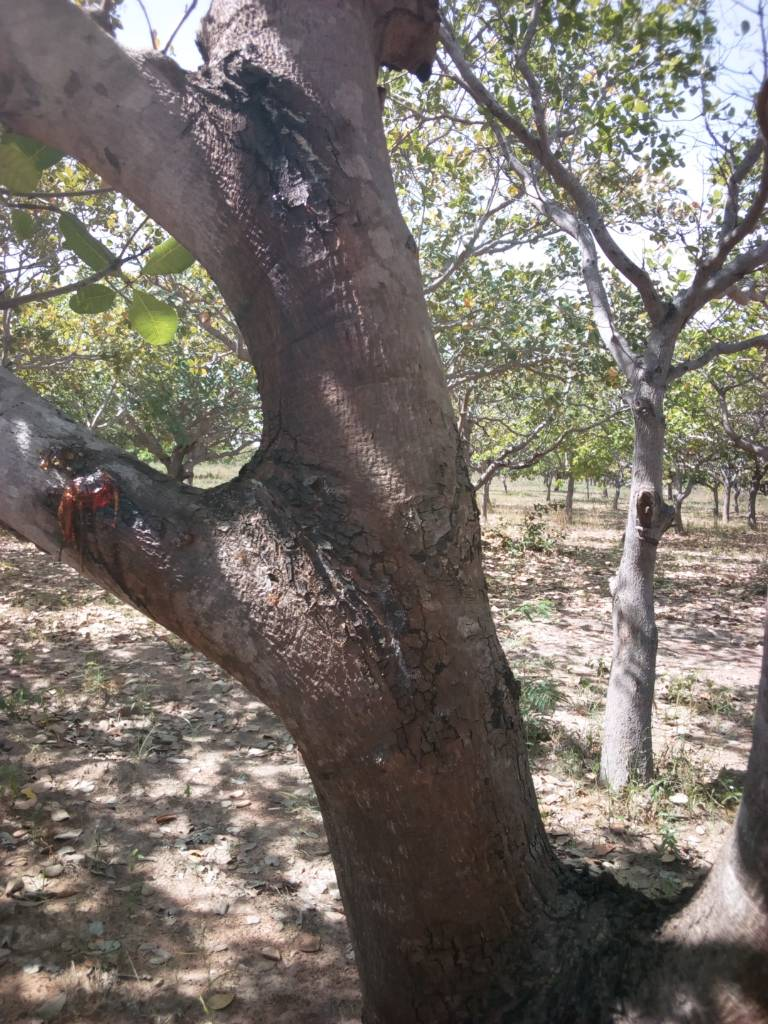Gommose: (243, 472, 427, 653), (194, 64, 354, 269), (36, 444, 121, 558)
